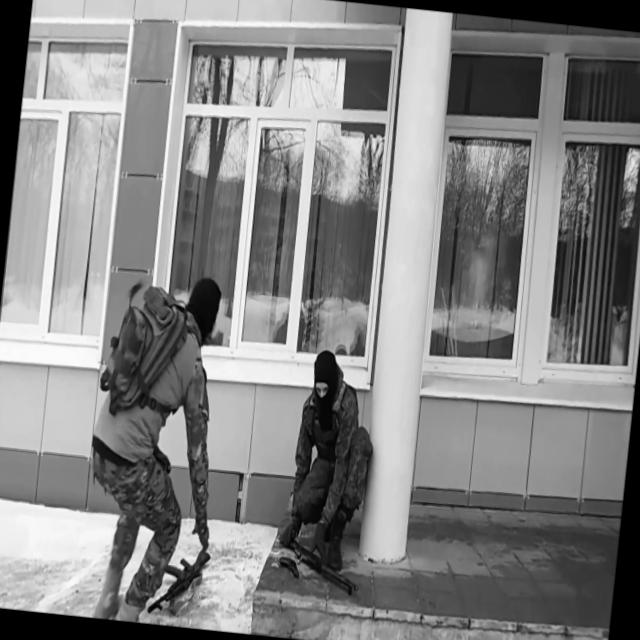gun: (274, 525, 364, 597), (146, 540, 212, 622), (276, 552, 302, 582)
person with a gun: (275, 345, 384, 598), (278, 346, 384, 576)
